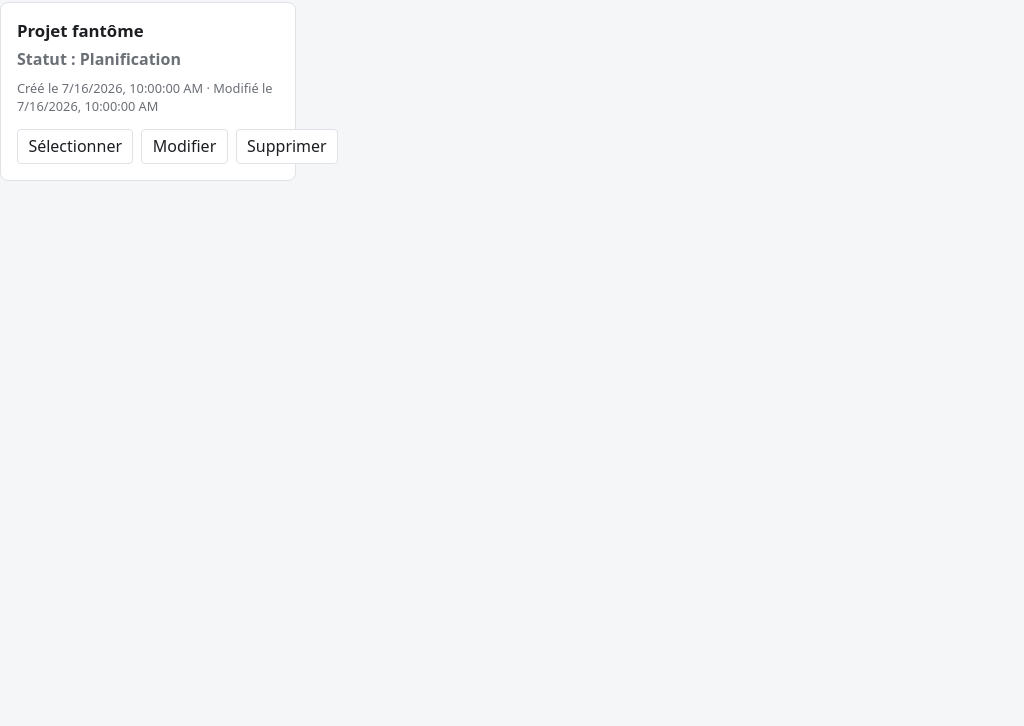
Test: ProjectsPage — modification › affiche une erreur et garde le formulaire ouvert si le projet n'existe plus (update renvoie null)
Expected: the heading "Projet fantôme" is shown, [17,19,144,42]
Click the button "Modifier" at (184, 146), box [141,129,228,164]
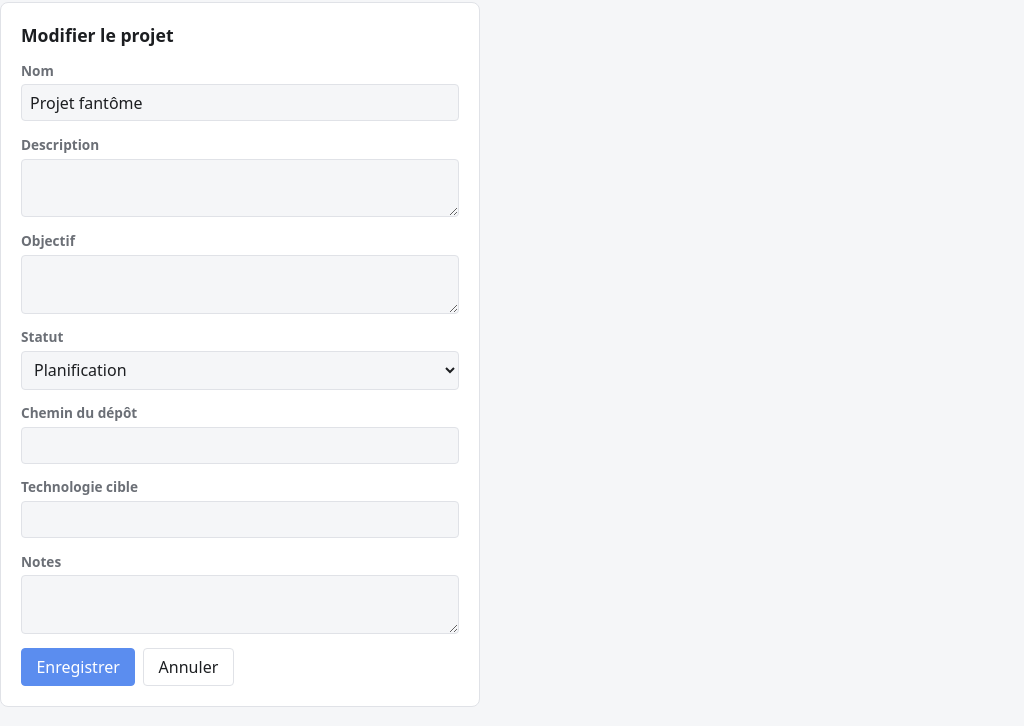
Replace the text in the field labelled "Nom" with "Nom modifié localement" at (240, 103), box [21,84,459,121]
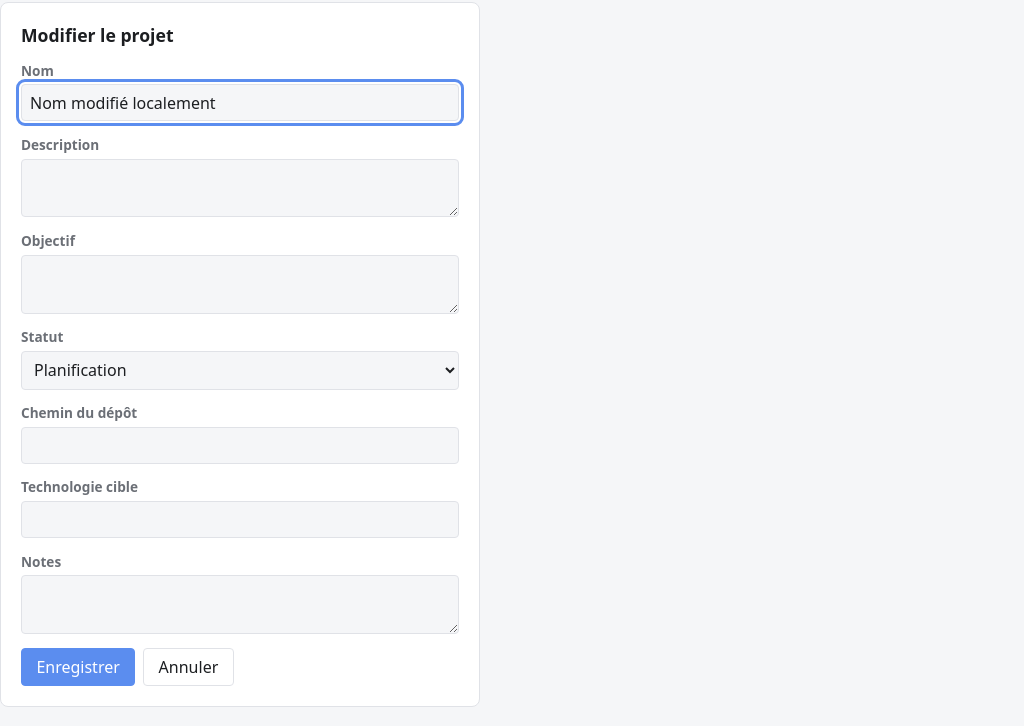
Click the button "Enregistrer" at (78, 667), box [21,648,135,686]
(page scrolled)
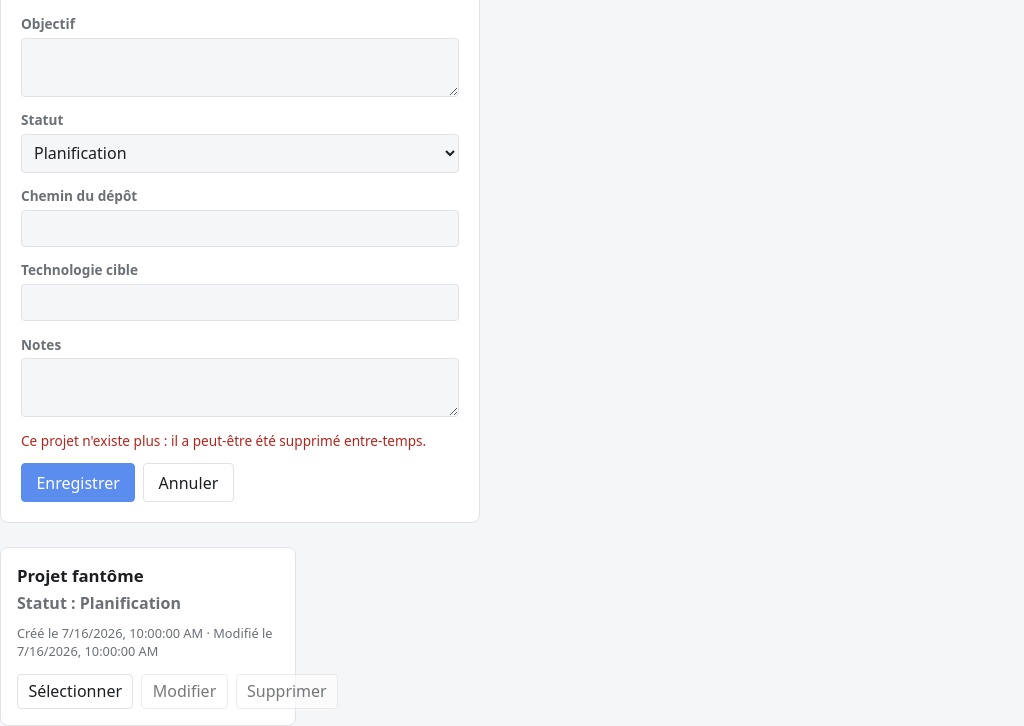
Expected: the heading "Projet fantôme" is shown, [17,564,144,587]
Now the button "Enregistrer" is enabled, box [21,463,135,502]
Now the text "Ce projet n'existe plus : il a peut-être été supprimé entre-temps." is shown, box [21,431,459,450]
